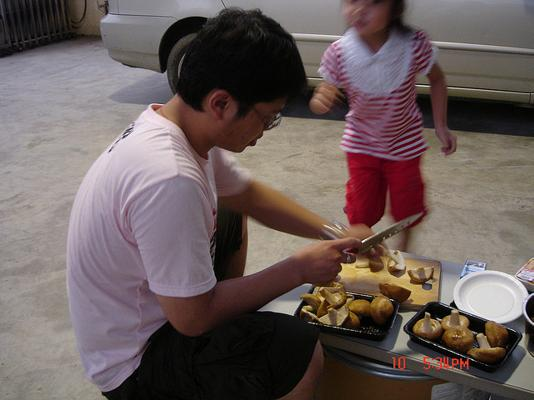person: (66, 8, 384, 400)
